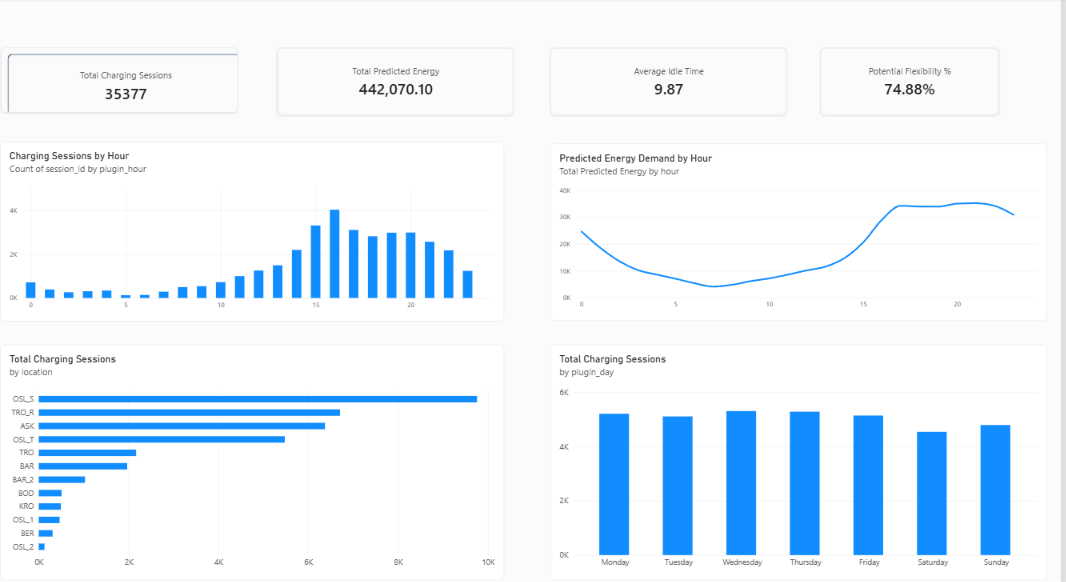

This screenshot's page, from the dashboard's own definition file:
{"tool":"powerbi","page":{"name":"Executive Overview","canvas":[1920,1080],"ordinal":0},"visuals":[{"type":"cardVisual","fields":{"Data":["src_charging_reports.Total Charging Sessions"]},"box":[4.1,90.6,428.1,117.3],"z":0},{"type":"cardVisual","fields":{"Data":["src_hourly_predictions.Total Predicted Energy"]},"box":[502.2,90.6,428.1,123.5],"z":1000},{"type":"cardVisual","fields":{"Data":["src_session_predictions.Average Idle Time"]},"box":[996.2,90.6,428.1,123.5],"z":2000},{"type":"cardVisual","fields":{"Data":["src_session_predictions.Potential Flexibility %"]},"box":[1486.1,90.6,323.2,123.5],"z":3000},{"type":"clusteredColumnChart","title":"Charging Sessions by Hour","fields":{"Category":["src_charging_reports.plugin_hour"],"Y":["Count(src_charging_reports.session_id)"]},"box":[2.1,261.4,911.8,325.2],"z":4000},{"type":"lineChart","title":"Predicted Energy Demand by Hour","fields":{"Category":["src_hourly_predictions.hour"],"Y":["src_hourly_predictions.Total Predicted Energy"]},"box":[996.2,263.5,899.5,321.1],"z":5000},{"type":"clusteredBarChart","fields":{"Category":["src_charging_reports.location"],"Y":["src_charging_reports.Total Charging Sessions"]},"box":[2.1,627.8,911.8,426.1],"z":6000},{"type":"clusteredColumnChart","fields":{"Category":["src_charging_reports.plugin_day"],"Y":["src_charging_reports.Total Charging Sessions"]},"box":[996.2,627.8,899.5,426.1],"z":7000}]}

Visuals, with their boxes on the page's 1920x1080 design canvas (x1, y1, x2, y2). These are canvas units, not pixel positions in the 1066x582 screenshot, which may show the page scaled, cropped or inside an application window:
cardVisual - src_charging_reports.Total Charging Sessions: x1=4 y1=91 x2=432 y2=208
cardVisual - src_hourly_predictions.Total Predicted Energy: x1=502 y1=91 x2=930 y2=214
cardVisual - src_session_predictions.Average Idle Time: x1=996 y1=91 x2=1424 y2=214
cardVisual - src_session_predictions.Potential Flexibility %: x1=1486 y1=91 x2=1809 y2=214
"Charging Sessions by Hour" clusteredColumnChart: x1=2 y1=261 x2=914 y2=587
"Predicted Energy Demand by Hour" lineChart: x1=996 y1=264 x2=1896 y2=585
clusteredBarChart - src_charging_reports.location x src_charging_reports.Total Charging Sessions: x1=2 y1=628 x2=914 y2=1054
clusteredColumnChart - src_charging_reports.plugin_day x src_charging_reports.Total Charging Sessions: x1=996 y1=628 x2=1896 y2=1054
